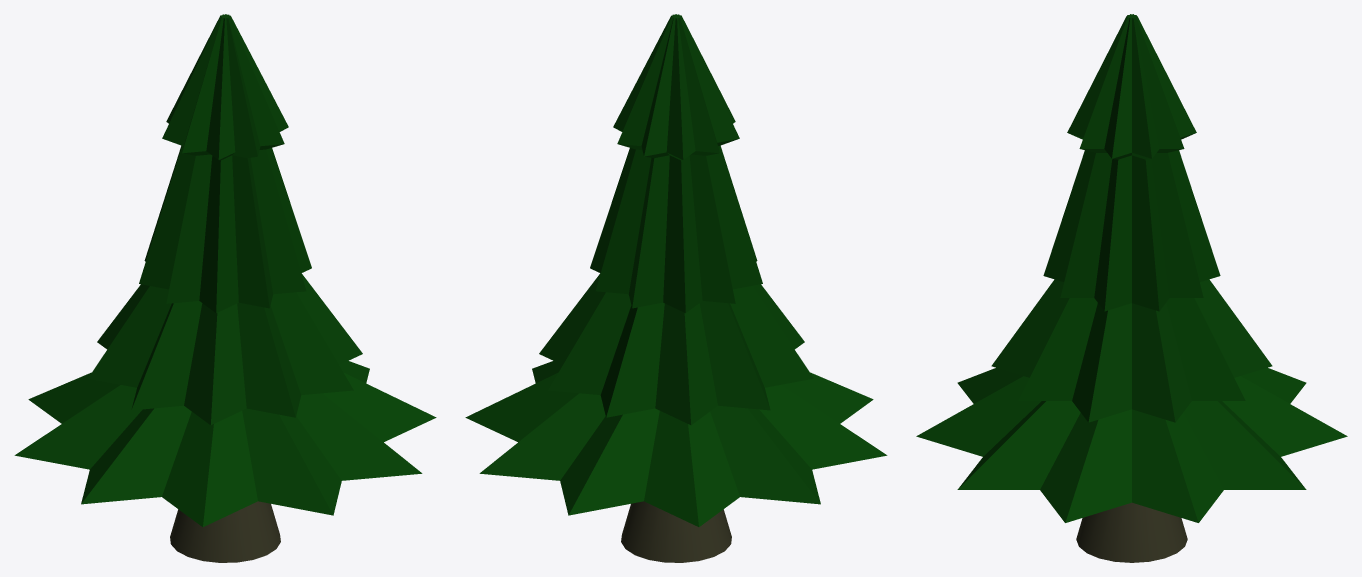
The model's file is shittyTree.fbx.
3 renders of one model, left to right at view 1: azimuth 30°, elevation 25°; view 2: azimuth 150°, elevation 25°; view 3: azimuth 270°, elevation 25°, orthographic.
Visible parts, largest first — view 1: pCylinder1; view 2: pCylinder1; view 3: pCylinder1.
Part boxes in pixels (box(x1,y1,x2,y2)): pCylinder1: box(14, 14, 436, 562); pCylinder1: box(465, 14, 887, 562); pCylinder1: box(916, 14, 1347, 562).
Size of the model in its own units: 7.36 by 10.34 by 7.74.
